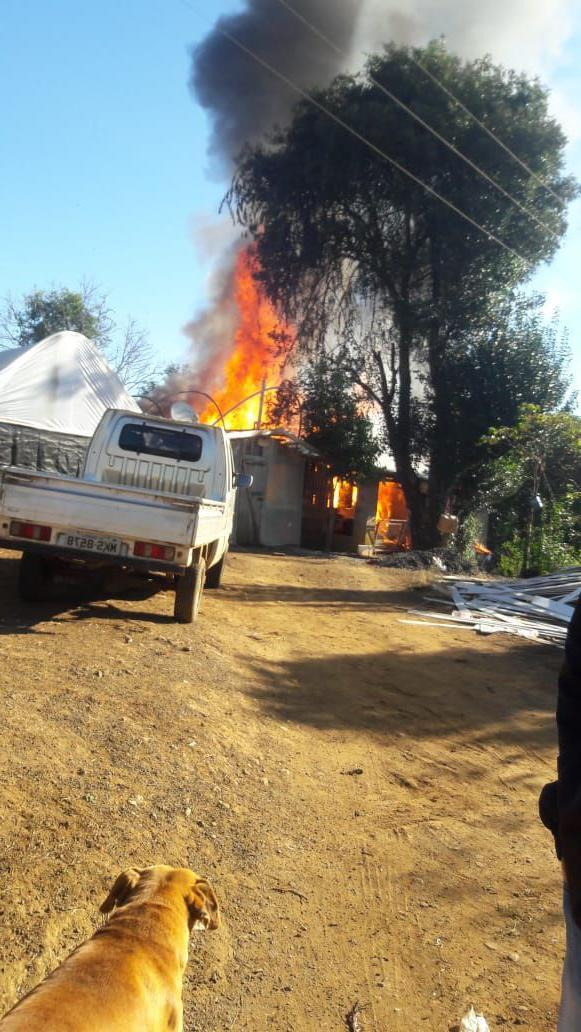Fire: (189, 241, 303, 433), (374, 487, 395, 537)
